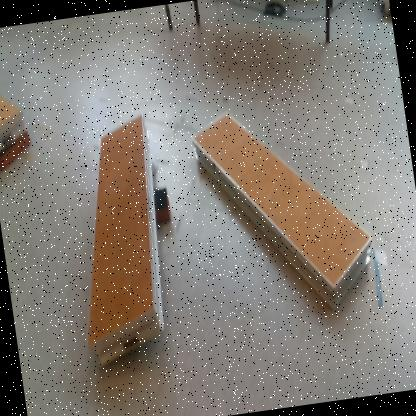Stairs: (192, 110, 374, 314), (87, 116, 166, 368), (1, 95, 30, 157)
